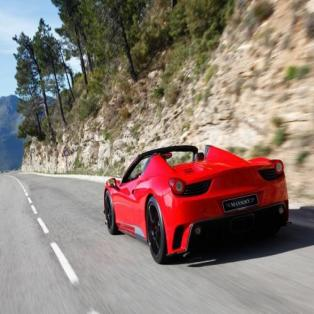Auto: (100, 145, 290, 262)
